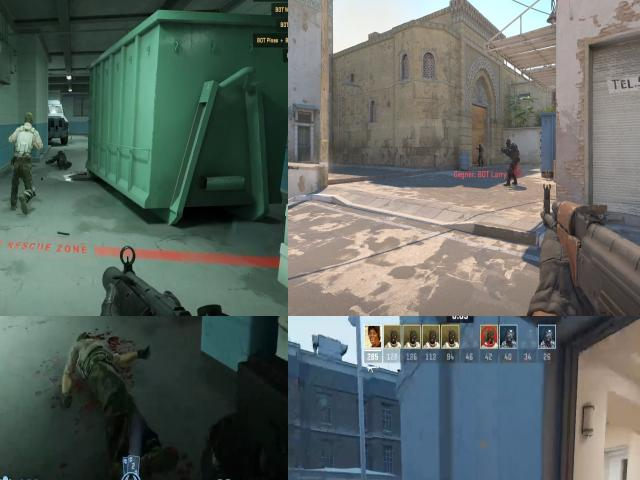CT: (504, 138, 520, 184), (478, 142, 484, 166)
CT-Head: (506, 139, 514, 148), (478, 143, 483, 149)
Dead: (58, 323, 168, 454), (48, 146, 72, 173)
T: (9, 110, 42, 164)
T-Head: (20, 112, 35, 130)
